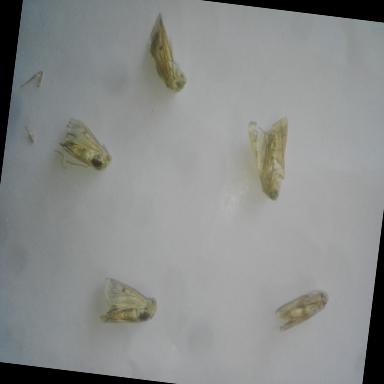abw: (136, 8, 198, 100), (235, 110, 295, 204), (52, 111, 119, 176), (96, 273, 162, 335), (269, 281, 333, 340)
